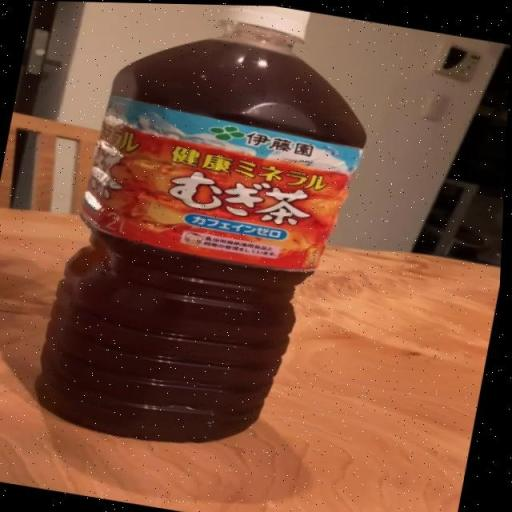plastic: (38, 4, 368, 445)
